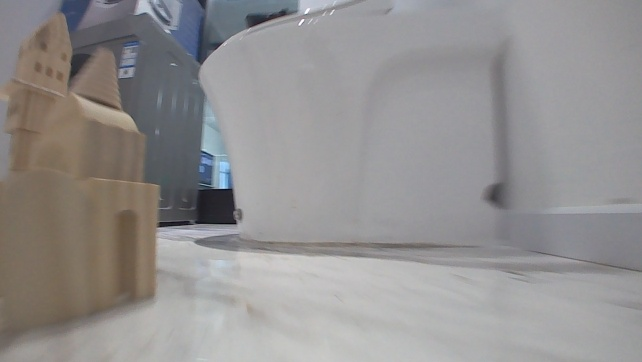plastic_toy: (0, 12, 164, 337)
toilet: (196, 0, 399, 244)
washing_machine1: (59, 11, 207, 224)
